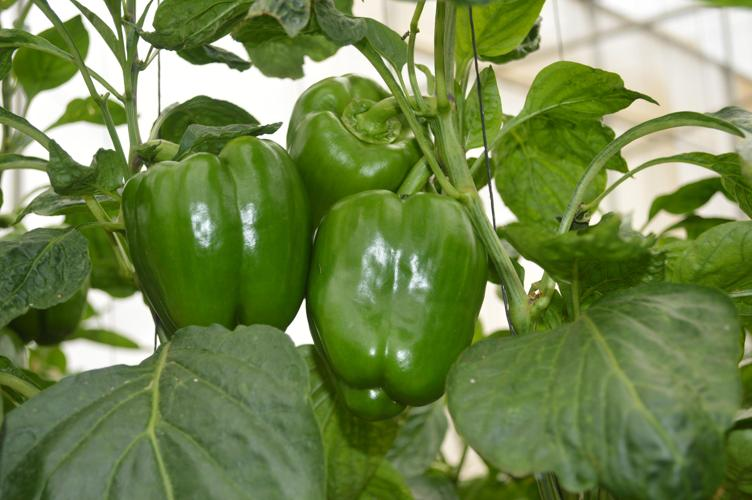BellPepper: (310, 191, 489, 416), (127, 138, 308, 338), (288, 73, 425, 207)
